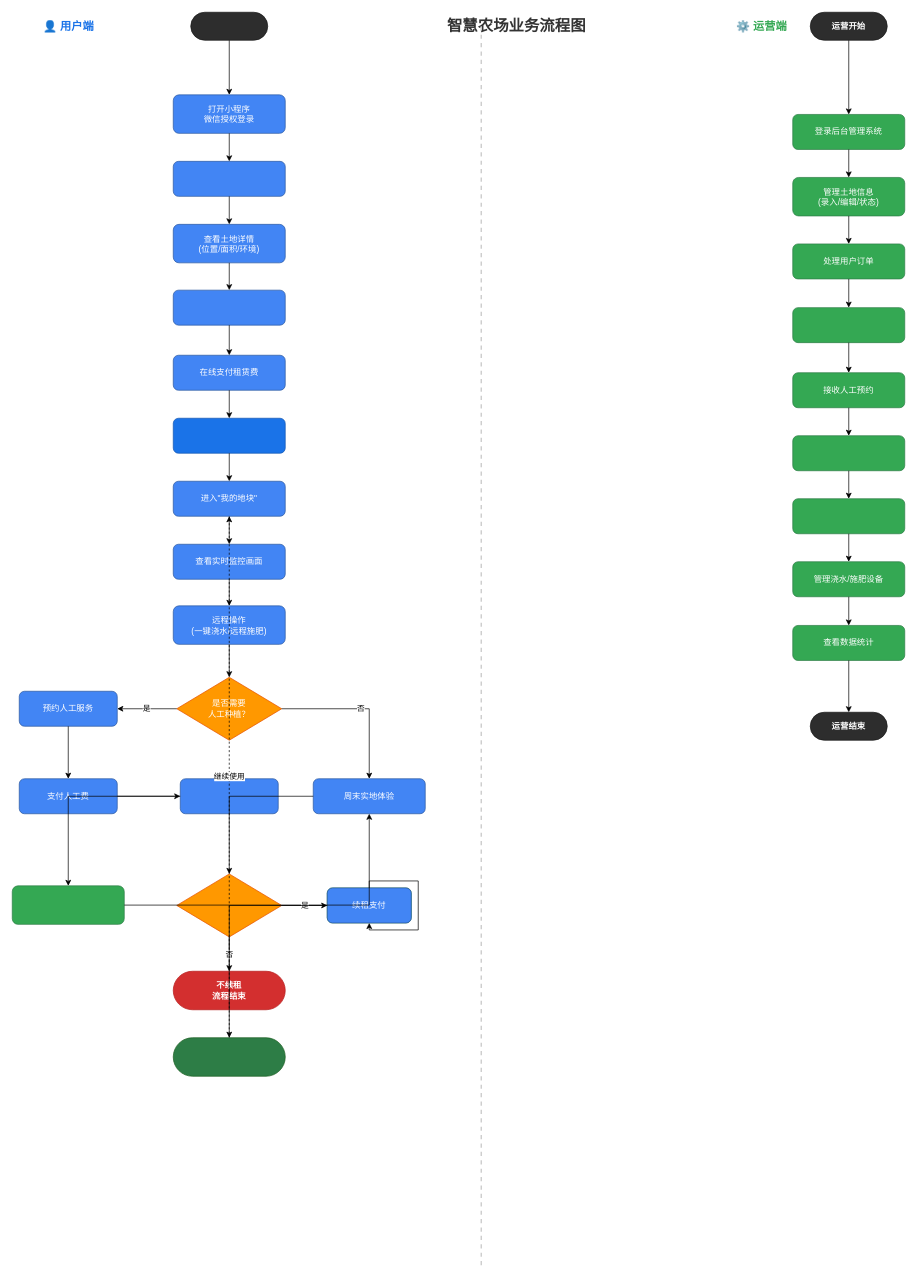
The diagram is 917 pixels wide and 1279 high, and some of its shapes have lost their labels. The shapes that lost their labels are listed below. From the top down, each one's centre as x and y in pixels, then its label:
At [229,26]: "开始".
At [229,178]: "浏览可认领土地".
At [229,307]: "选择土地".
At [848,325]: "确认租赁".
At [229,435]: "认领完成".
At [848,453]: "派单给工作人员".
At [848,516]: "监控设备状态".
At [229,796]: "等待种植完成".
At [68,904]: "消息通知： 浇水/施肥/告警".
At [229,905]: "租赁到期 是否续租？".
At [229,1056]: "续租成功 继续使用".
